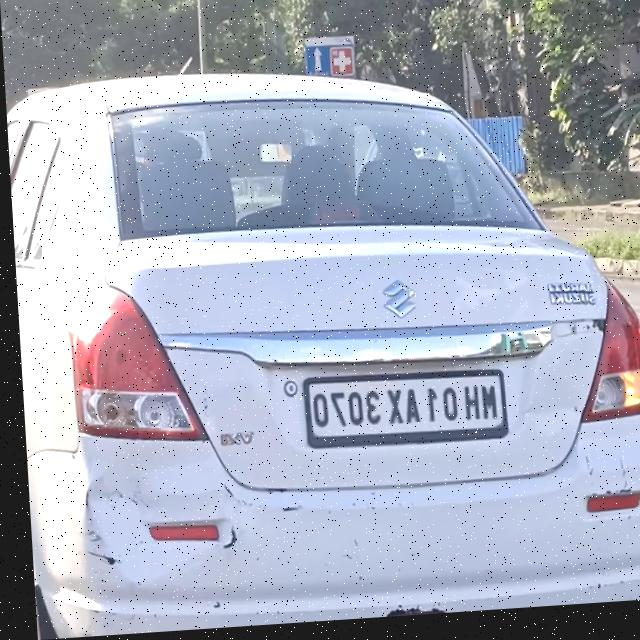plate: (297, 370, 504, 454)
